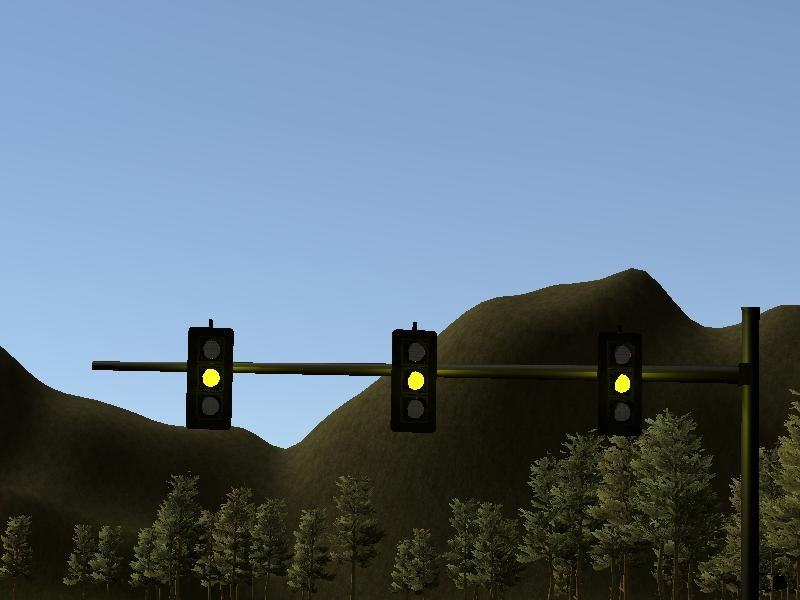Yellow: (592, 329, 646, 437), (185, 323, 235, 432), (389, 327, 439, 436)
